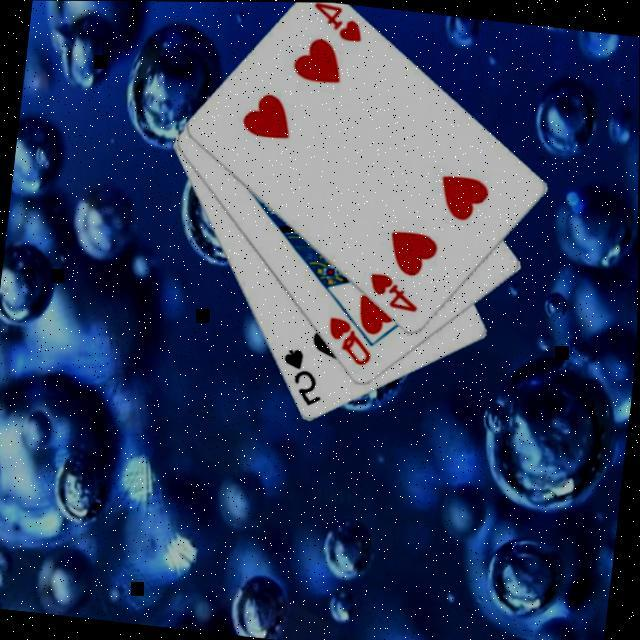4H: (362, 270, 423, 318), (305, 2, 366, 48)
5S: (274, 345, 327, 412)
QH: (319, 314, 376, 371)
